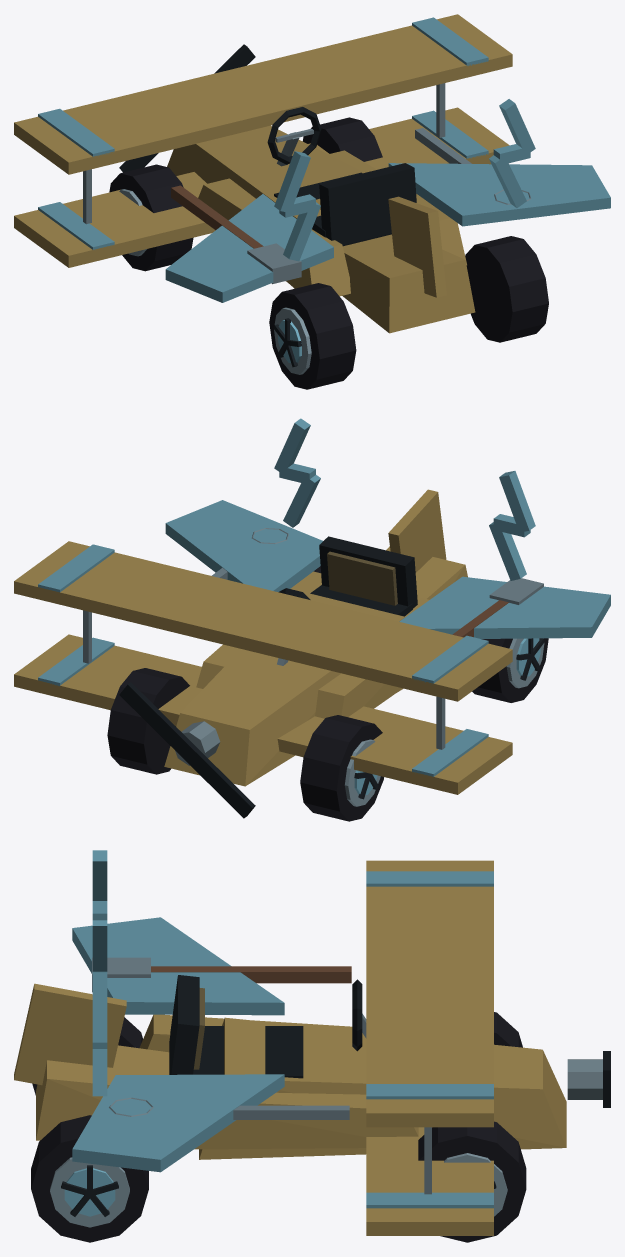
Rendered from kart.glb.
The picture shows the model from 3 angles, top to bottom: view 1: azimuth 30°, elevation 25°; view 2: azimuth 150°, elevation 25°; view 3: azimuth 270°, elevation 25°; orthographic projection. The views are drawn at different scales.
Parts seen in each view (by area): view 1: identity-biplane-biplane-dual-wings-and-propeller, identity-biplane-motif-wings, identity-biplane-driver-cockpit, wheel-rear-left, wheel-rear-right, identity-biplane-motif-electric, wheel-front-left, identity-biplane-motif-tools, wheel-front-right; view 2: identity-biplane-biplane-dual-wings-and-propeller, identity-biplane-motif-wings, wheel-front-left, identity-biplane-driver-cockpit, identity-biplane-motif-electric, wheel-front-right, wheel-rear-left, identity-biplane-motif-tools; view 3: identity-biplane-biplane-dual-wings-and-propeller, identity-biplane-motif-wings, wheel-rear-right, identity-biplane-driver-cockpit, identity-biplane-motif-tools, wheel-front-right, identity-biplane-motif-electric, wheel-front-left, wheel-rear-left.
Part boxes in pixels (bbox=[...]): identity-biplane-biplane-dual-wings-and-propeller: bbox=[14, 14, 512, 333]; identity-biplane-motif-wings: bbox=[165, 163, 610, 302]; identity-biplane-driver-cockpit: bbox=[267, 107, 416, 246]; wheel-rear-left: bbox=[269, 283, 356, 389]; wheel-rear-right: bbox=[465, 236, 548, 342]; identity-biplane-motif-electric: bbox=[274, 99, 535, 261]; wheel-front-left: bbox=[109, 164, 193, 271]; identity-biplane-motif-tools: bbox=[171, 128, 531, 284]; wheel-front-right: bbox=[302, 117, 382, 161]; identity-biplane-biplane-dual-wings-and-propeller: bbox=[14, 489, 512, 818]; identity-biplane-motif-wings: bbox=[165, 500, 610, 638]; wheel-front-left: bbox=[300, 715, 383, 821]; identity-biplane-driver-cockpit: bbox=[277, 536, 417, 665]; identity-biplane-motif-electric: bbox=[274, 418, 535, 580]; wheel-front-right: bbox=[107, 668, 189, 774]; wheel-rear-left: bbox=[472, 638, 548, 702]; identity-biplane-motif-tools: bbox=[211, 528, 543, 637]; identity-biplane-biplane-dual-wings-and-propeller: bbox=[14, 860, 610, 1235]; identity-biplane-motif-wings: bbox=[72, 917, 284, 1172]; wheel-rear-right: bbox=[31, 1115, 148, 1242]; identity-biplane-driver-cockpit: bbox=[169, 975, 366, 1078]; identity-biplane-motif-tools: bbox=[92, 957, 351, 1119]; wheel-front-right: bbox=[418, 1121, 526, 1242]; identity-biplane-motif-electric: bbox=[92, 850, 107, 1096]; wheel-front-left: bbox=[494, 1012, 522, 1047]; wheel-rear-left: bbox=[32, 1017, 142, 1095].
Size of the model in its own units: 3.04 by 1.49 by 3.04.
